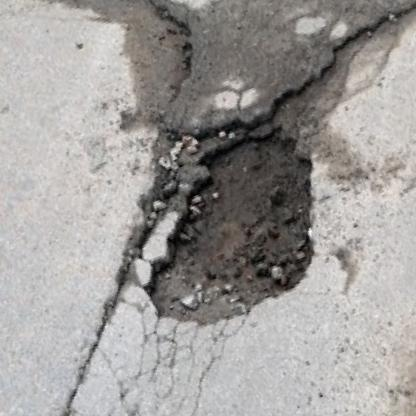pothole: (80, 90, 358, 355)
